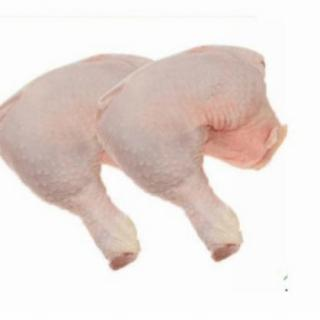Ayam: (103, 46, 289, 262), (1, 51, 159, 278)
